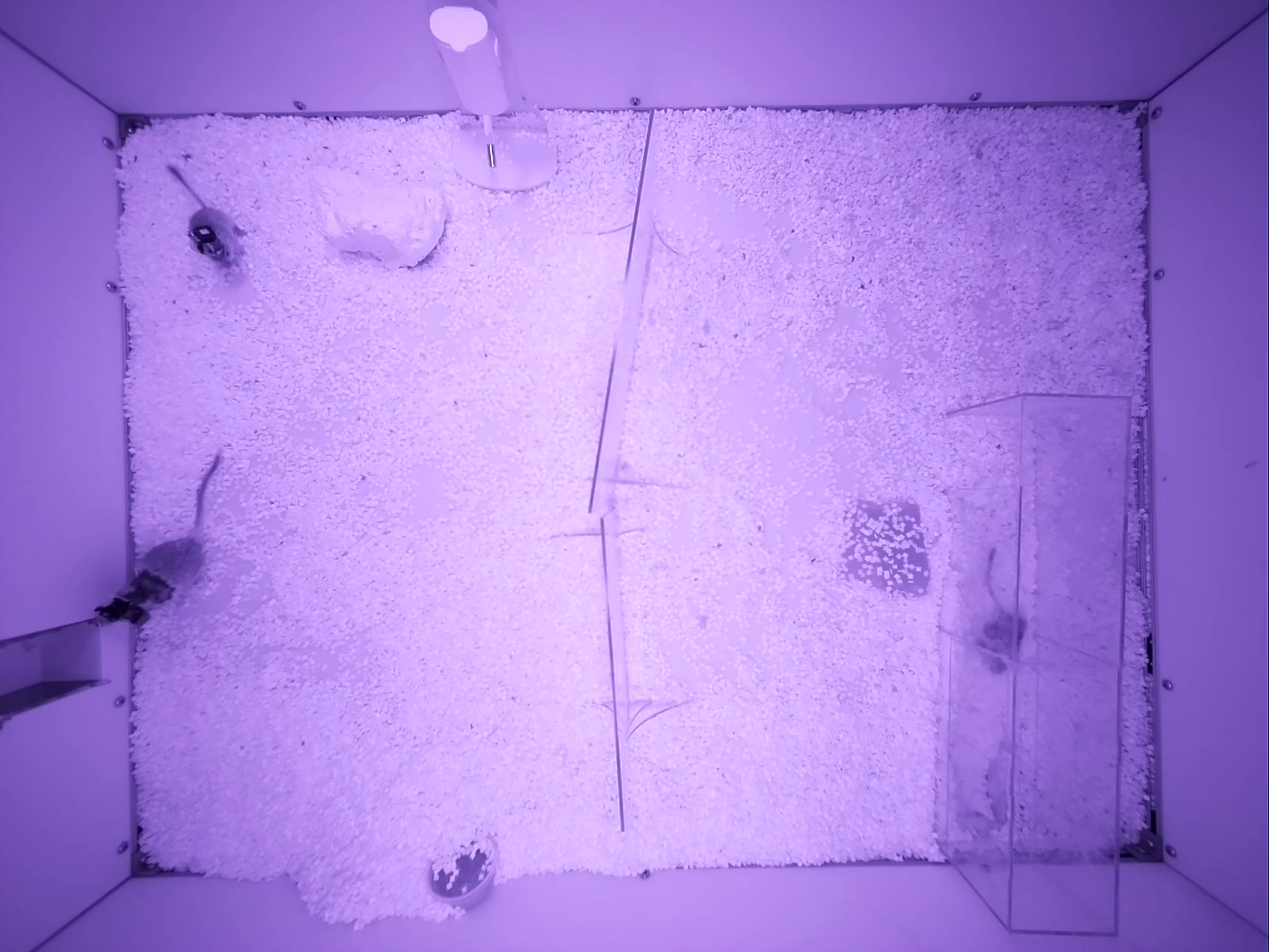adult_back: (97, 452, 220, 624), (168, 164, 243, 268), (977, 547, 1026, 673)
